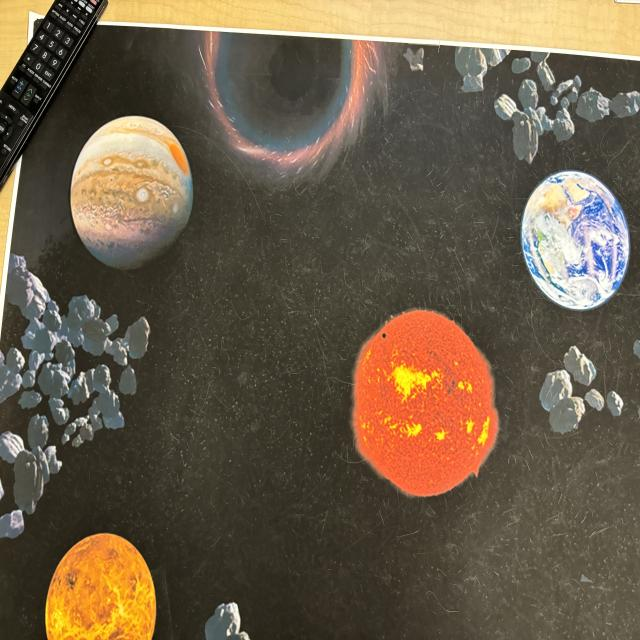Asteroids: (0, 284, 151, 490), (406, 38, 626, 148), (540, 344, 623, 433)
Black Hole: (205, 26, 366, 165)
Earth: (523, 166, 631, 312)
Jupiter: (71, 112, 196, 272)
Sun: (350, 306, 500, 498)
Venus: (42, 534, 160, 636)
